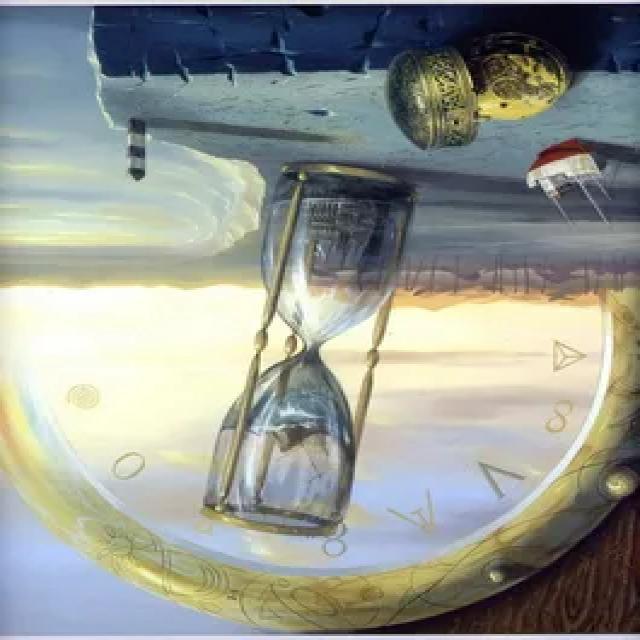clock: (195, 160, 438, 546)
